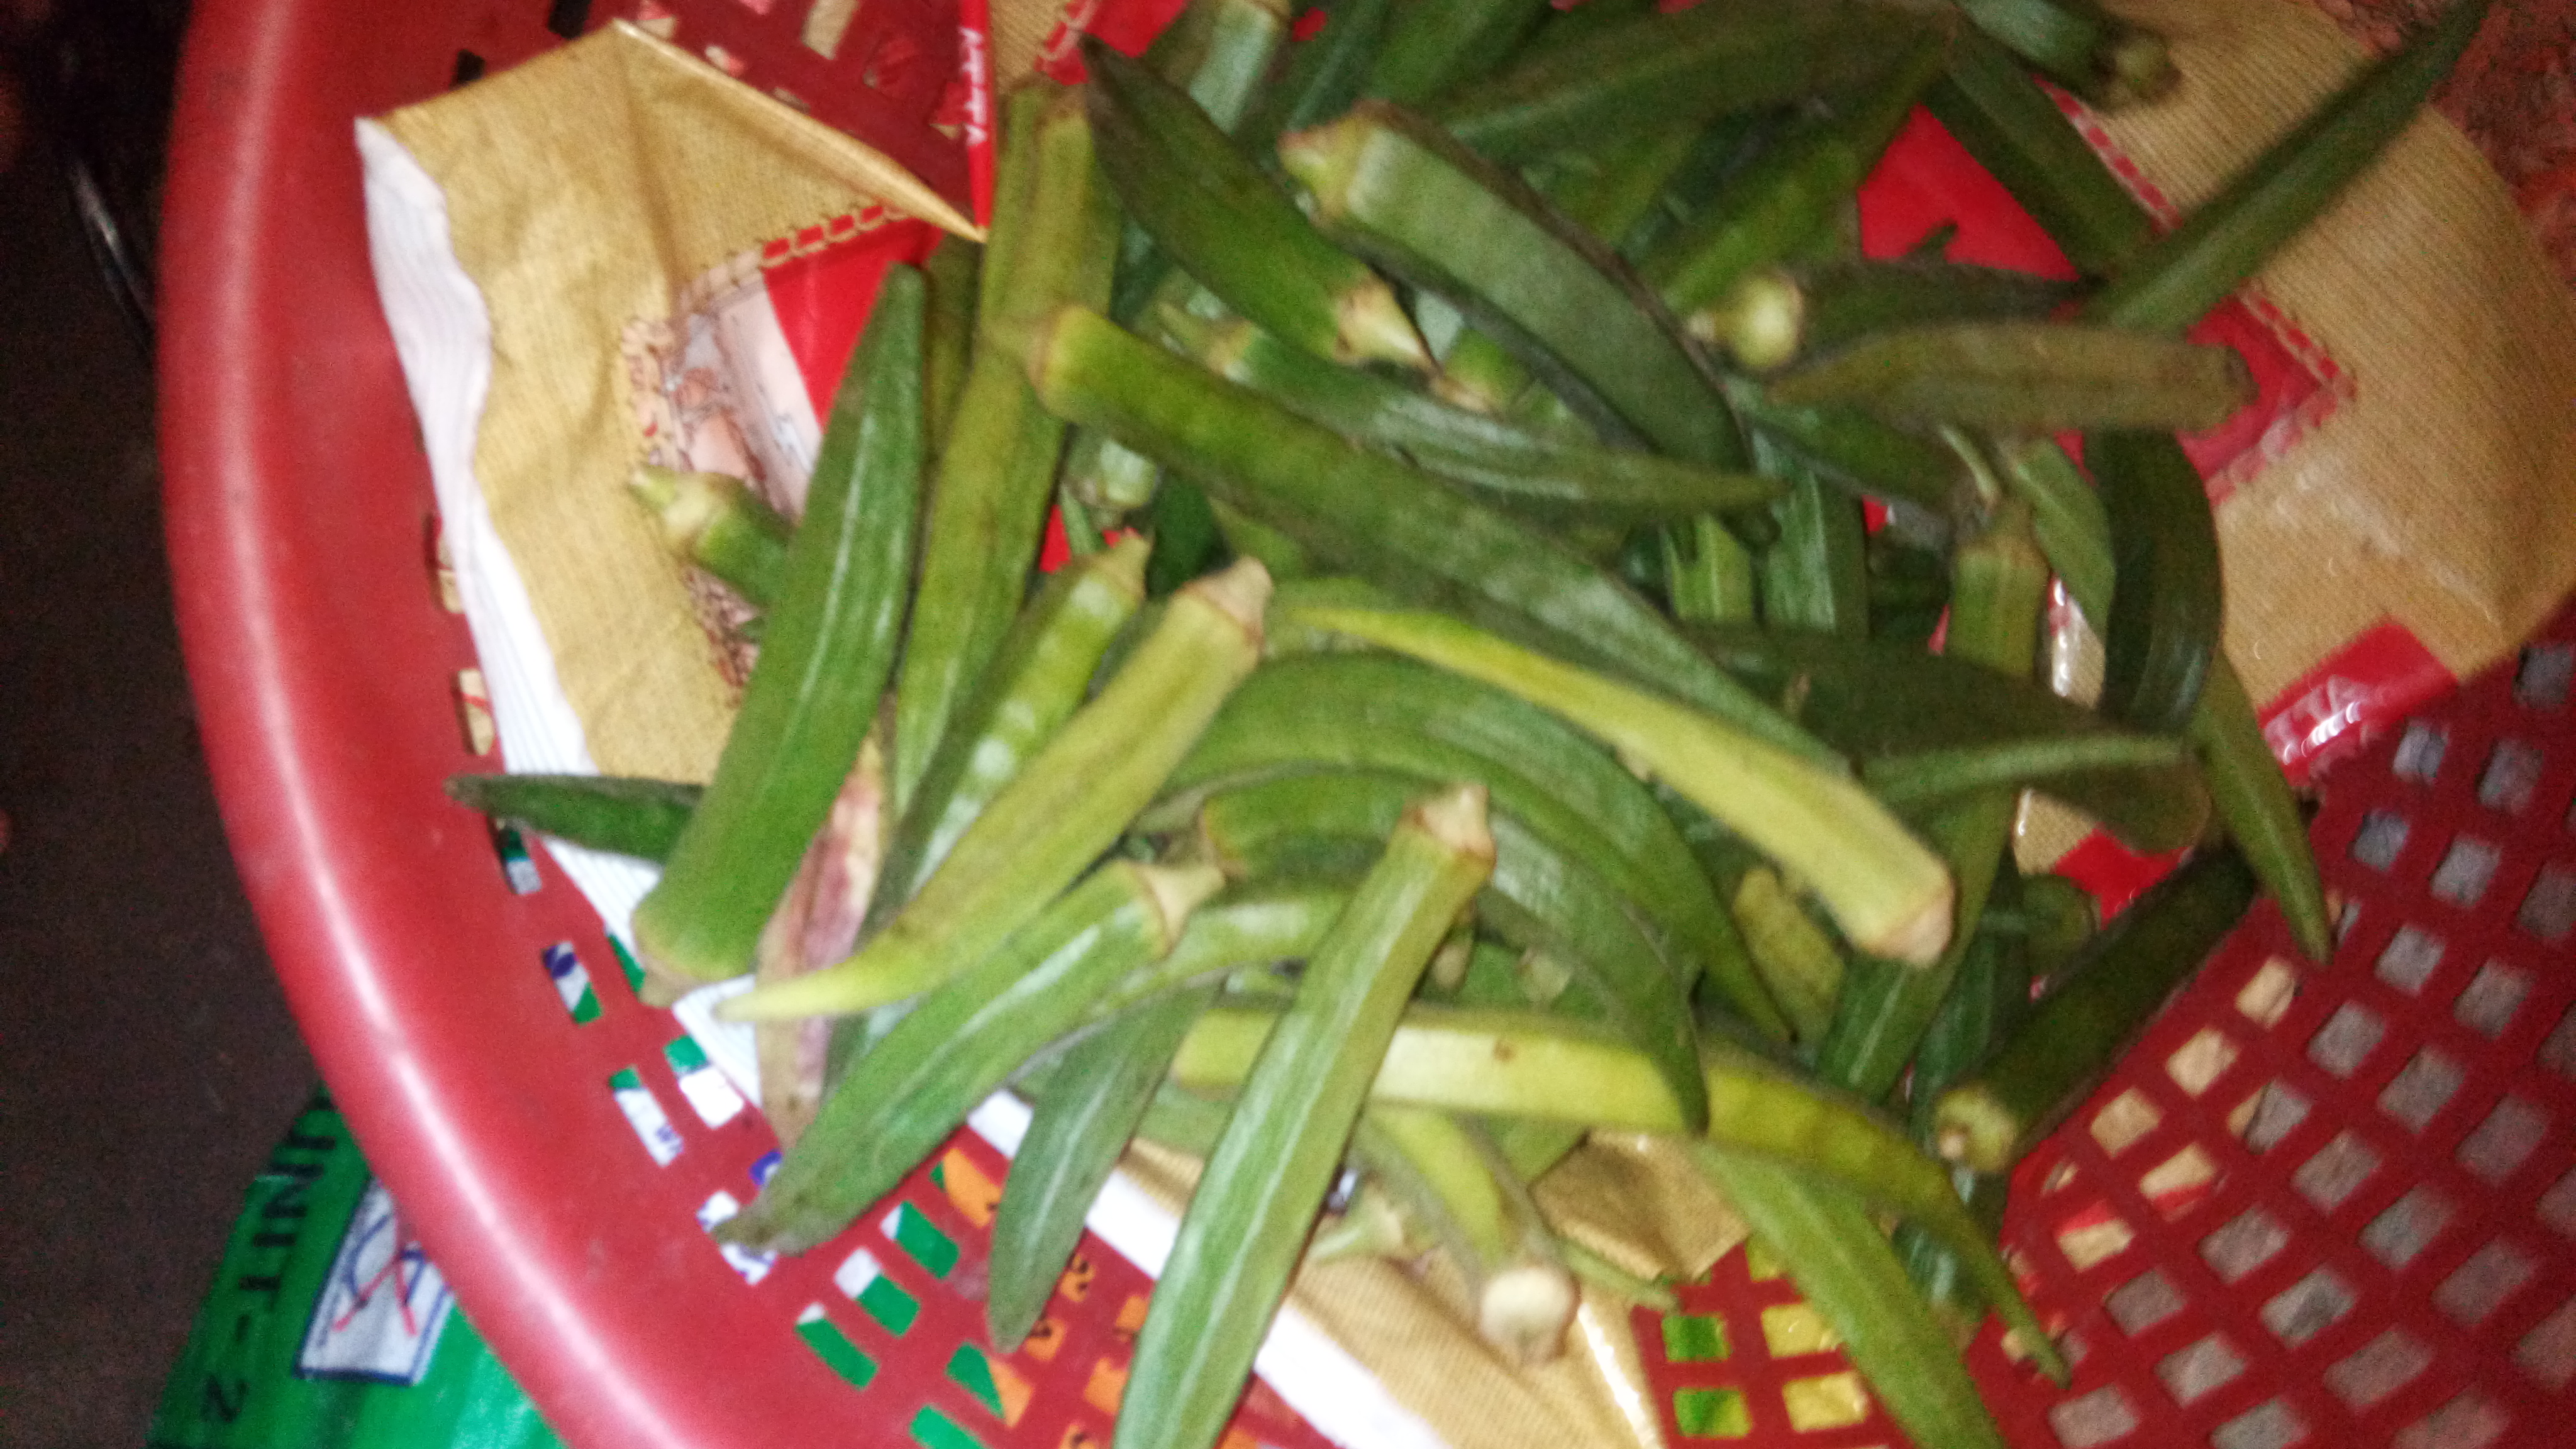food: (433, 0, 2511, 1449)
